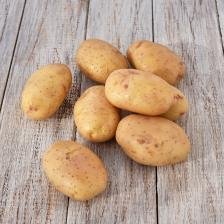Potato: (116, 113, 192, 167), (43, 140, 108, 201), (105, 68, 175, 116), (21, 63, 73, 120), (127, 39, 186, 86), (74, 86, 121, 142), (76, 38, 130, 85)
